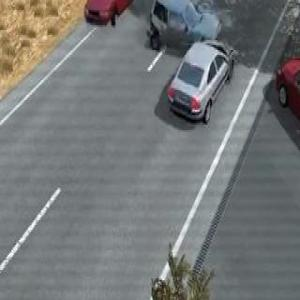significant: (145, 0, 238, 128)
